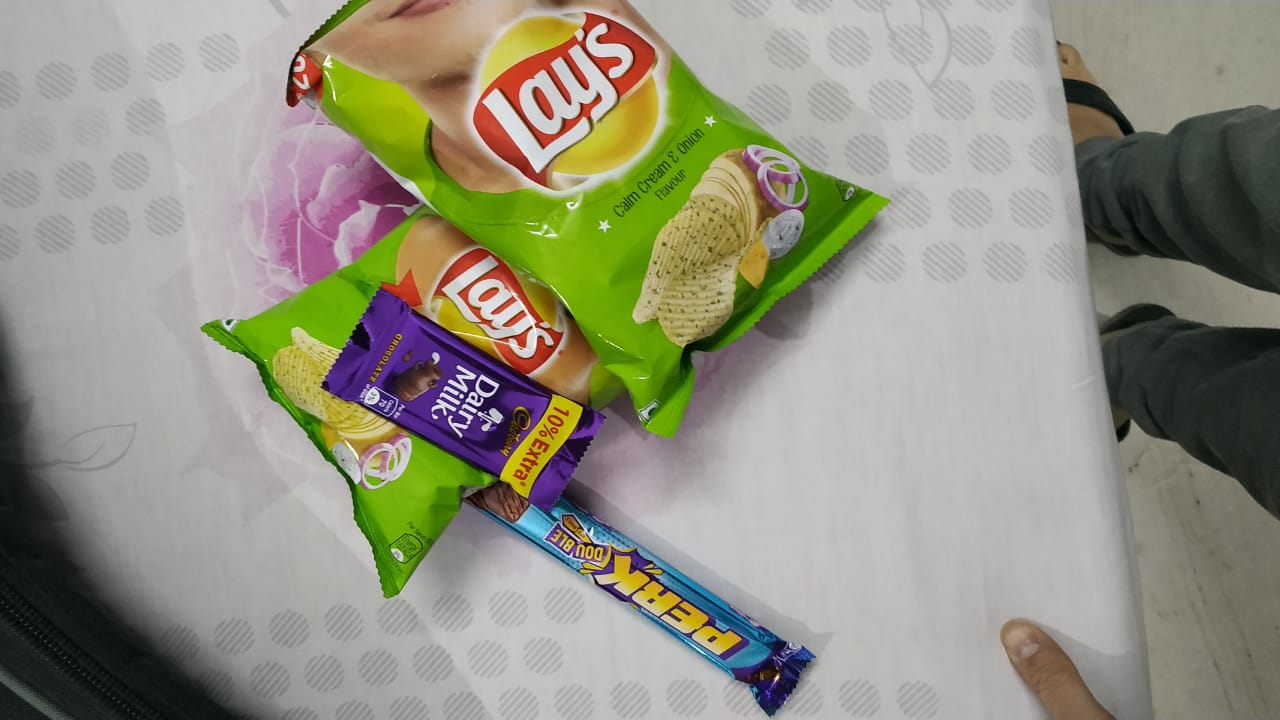dairy milk: (327, 303, 584, 491)
lays chips: (276, 4, 890, 364)
perk: (498, 472, 861, 720)
